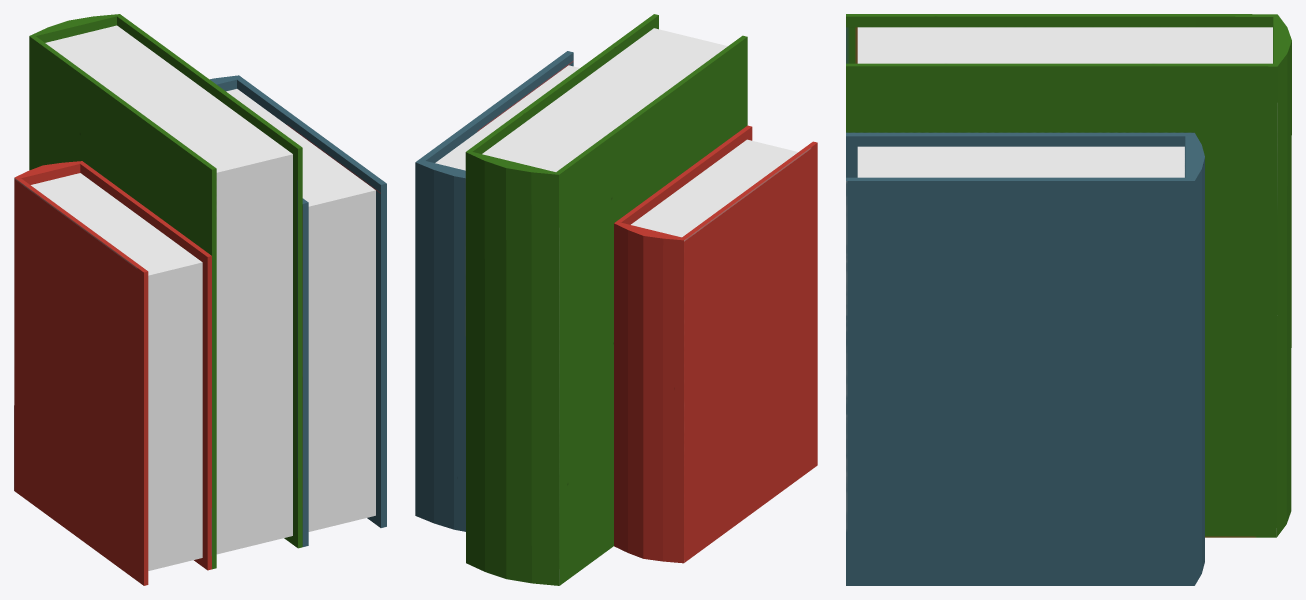
File: Book_Cluster.fbx
The picture shows the model from 3 angles, left to right: view 1: azimuth 30°, elevation 25°; view 2: azimuth 150°, elevation 25°; view 3: azimuth 270°, elevation 25°; orthographic projection. The views are drawn at different scales.
Visible parts, largest first — view 1: Cube; view 2: Cube; view 3: Cube.
Boxes of the visible parts, left/top/right/bottom form: Cube: left=14, top=14, right=386, bottom=585; Cube: left=415, top=14, right=817, bottom=585; Cube: left=846, top=14, right=1291, bottom=585.
Size of the model in its own units: 56.96 by 89.54 by 76.78.
